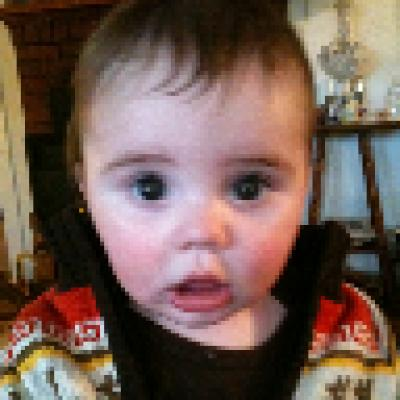surprise: (83, 64, 306, 322)
